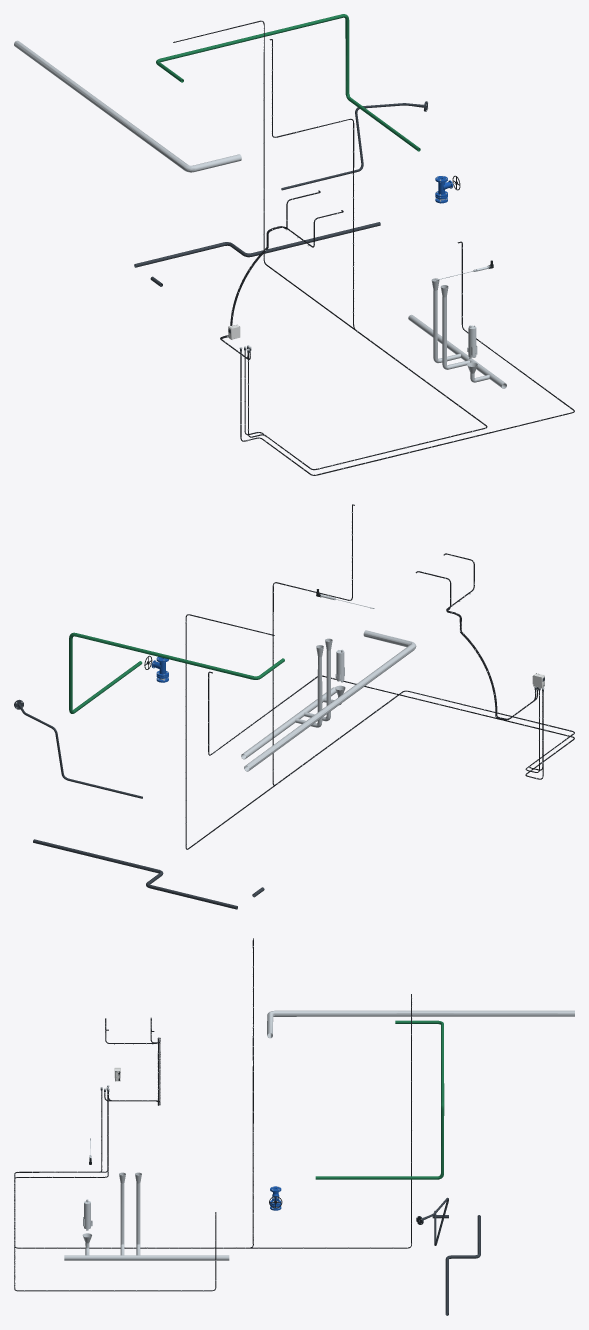
Rendered from s4000-6-Cpo37hgY.glb.
3 views of the same model, one above another, from view 1: azimuth 30°, elevation 25°; view 2: azimuth 150°, elevation 25°; view 3: azimuth 270°, elevation 25° (orthographic). The views are drawn at different scales.
Parts seen in each view (by area): view 1: safety_vent_1 / steel, local_open_drains / steel, to_direct / green, mod_eco_drive_cable / black, wiring_pump_1 / black, gpz_drive_cable / black, bottom_discharge / dark, tds_without_fv / dark; view 2: safety_vent_1 / steel, local_open_drains / steel, to_direct / green, mod_eco_drive_cable / black, wiring_pump_1 / black, bottom_discharge / dark, gpz_drive_cable / black, tds_without_fv / dark; view 3: safety_vent_1 / steel, local_open_drains / steel, mod_eco_drive_cable / black, to_direct / green, gpz_drive_cable / black, wiring_pump_1 / black, bottom_discharge / dark.
Boxes of the visible parts, x1,y1,x2,y2 form: safety_vent_1 / steel: (14,40,241,172); local_open_drains / steel: (408,278,506,388); to_direct / green: (156,14,420,151); mod_eco_drive_cable / black: (173,20,486,469); wiring_pump_1 / black: (240,241,574,475); gpz_drive_cable / black: (248,39,487,469); bottom_discharge / dark: (134,222,380,267); tds_without_fv / dark: (281,101,427,190); safety_vent_1 / steel: (244,630,416,771); local_open_drains / steel: (241,638,345,759); to_direct / green: (69,632,274,713); mod_eco_drive_cable / black: (185,614,574,849); wiring_pump_1 / black: (208,671,574,779); bottom_discharge / dark: (33,839,237,909); gpz_drive_cable / black: (272,504,574,785); tds_without_fv / dark: (14,699,142,798); safety_vent_1 / steel: (267,1010,574,1038); local_open_drains / steel: (64,1172,229,1260); mod_eco_drive_cable / black: (14,994,411,1248); to_direct / green: (315,1020,444,1179); gpz_drive_cable / black: (14,938,253,1248); wiring_pump_1 / black: (14,1099,216,1291); bottom_discharge / dark: (445,1215,480,1315).
Bounding box in the file's own units: 4.75 × 3.91 × 7.03.
